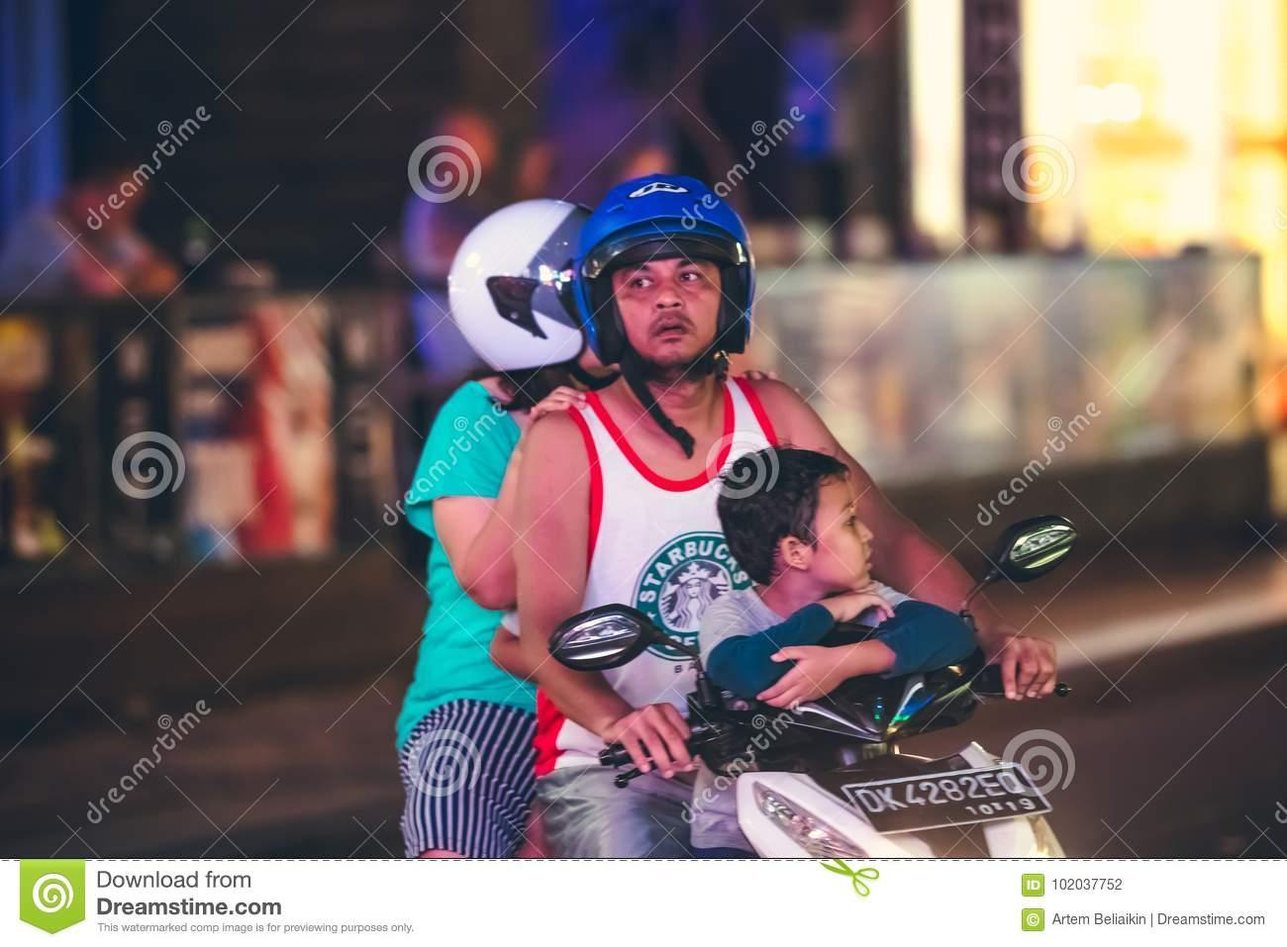helmet: (570, 171, 758, 370), (449, 195, 625, 378)
nohelmet: (715, 446, 879, 602)
